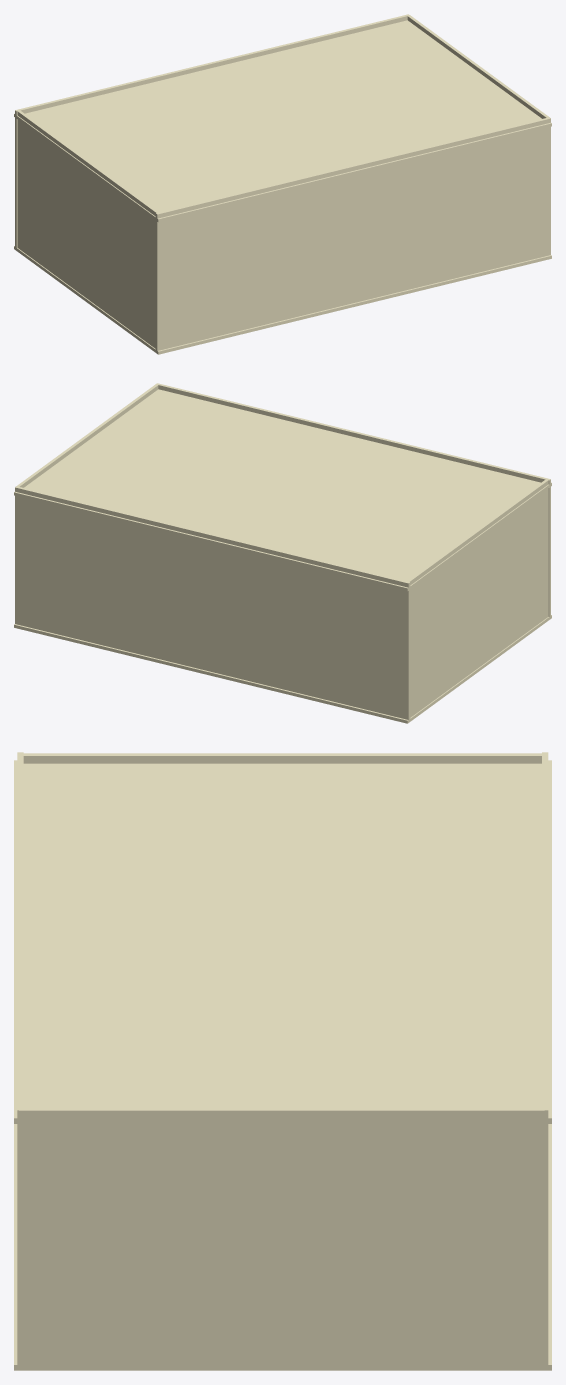
File: houseinside.dae
The picture shows the model from 3 angles, top to bottom: view 1: azimuth 30°, elevation 25°; view 2: azimuth 150°, elevation 25°; view 3: azimuth 270°, elevation 25°; orthographic projection. The views are drawn at different scales.
Visible parts, largest first — view 1: Box003, Box006, Box004, Box002, Box007, Box005; view 2: Box002, Box006, Box004, Box003, Box007, Box005; view 3: Box006, Box005, Box004, Box002, Box007, Box003.
Part boxes in pixels (<box>): Box003: <box>155,118,550,351</box>; Box006: <box>14,20,551,222</box>; Box004: <box>17,110,159,348</box>; Box002: <box>15,14,409,249</box>; Box007: <box>14,246,551,354</box>; Box005: <box>407,15,550,118</box>; Box002: <box>15,486,410,721</box>; Box006: <box>14,389,551,591</box>; Box004: <box>407,479,548,717</box>; Box003: <box>156,383,550,616</box>; Box007: <box>14,615,551,723</box>; Box005: <box>16,383,159,487</box>; Box006: <box>14,760,551,1123</box>; Box005: <box>19,1108,544,1368</box>; Box004: <box>19,753,544,763</box>; Box002: <box>542,752,548,1368</box>; Box007: <box>14,1124,551,1370</box>; Box003: <box>17,752,23,1368</box>.
Size of the model in its own units: 76.01 by 48.25 by 25.74.
